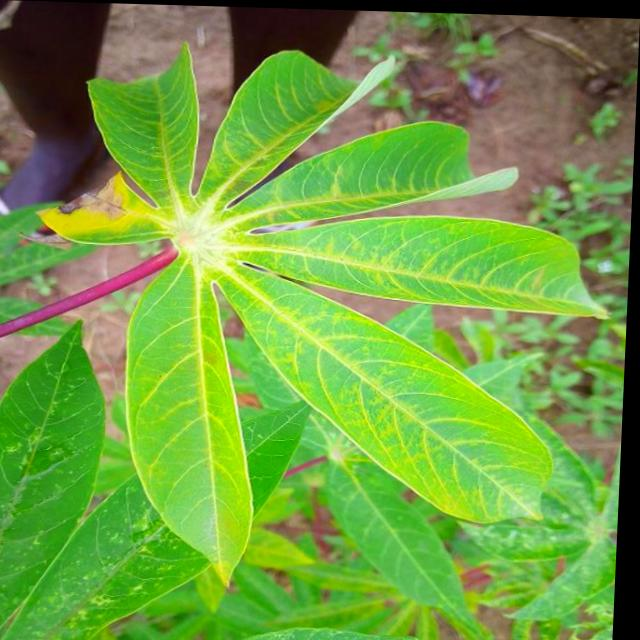Mosaico: (93, 124, 495, 538)
